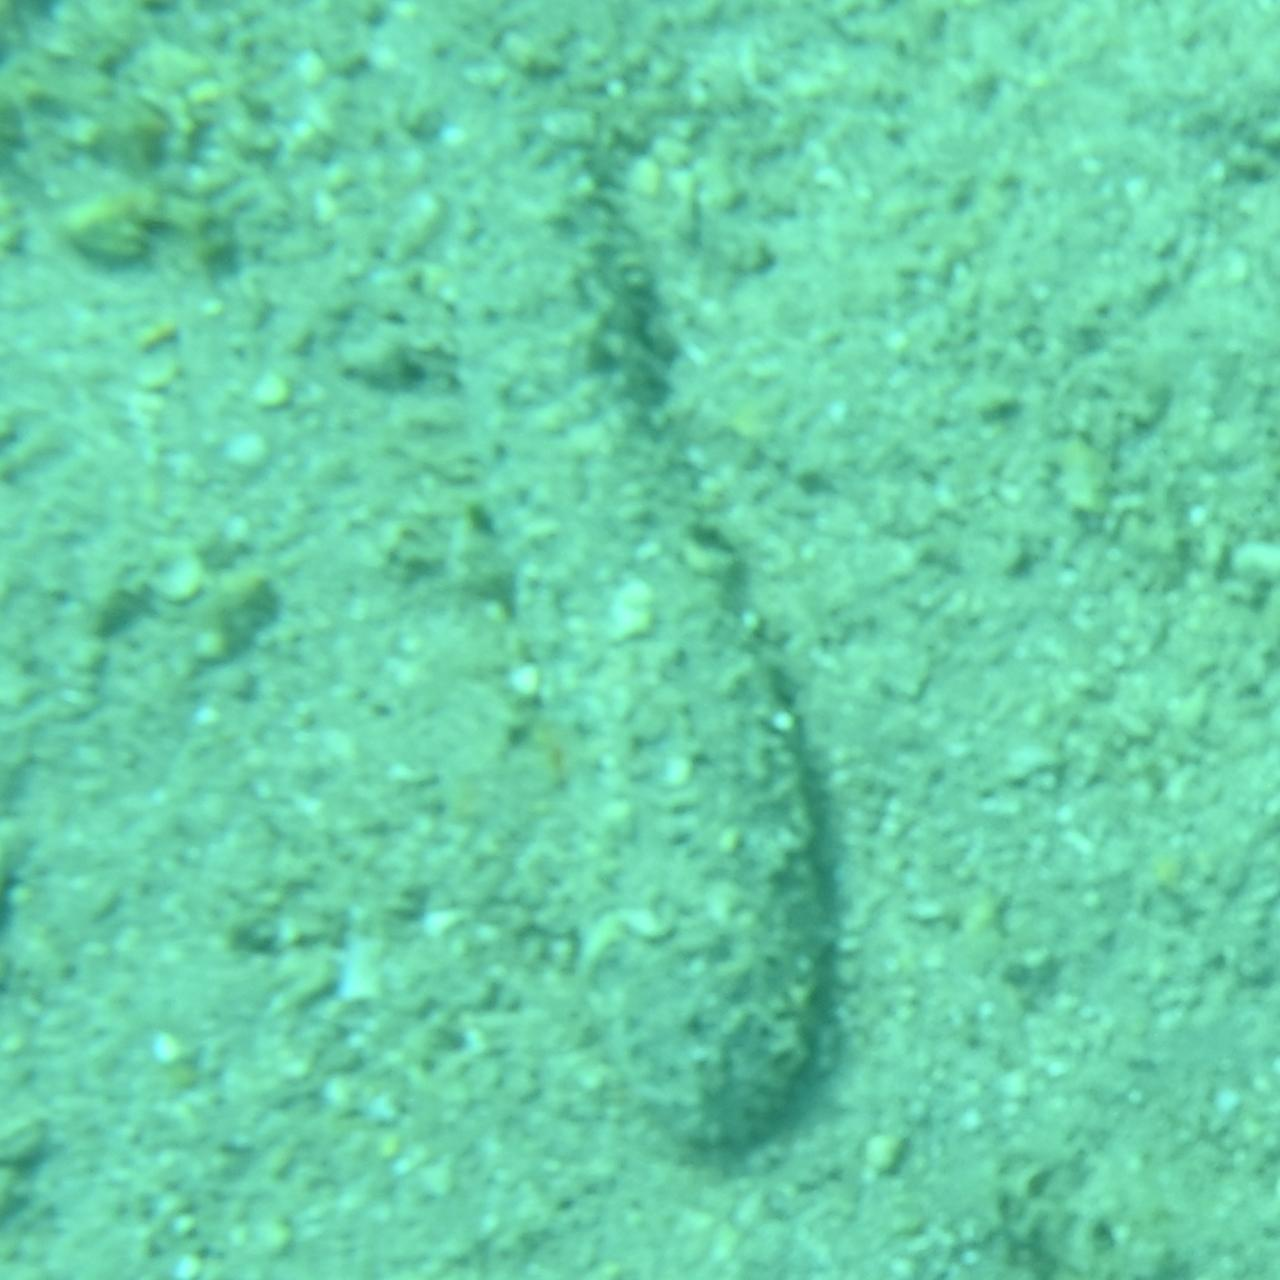Holothuria tubulosa: (408, 93, 872, 1187)
